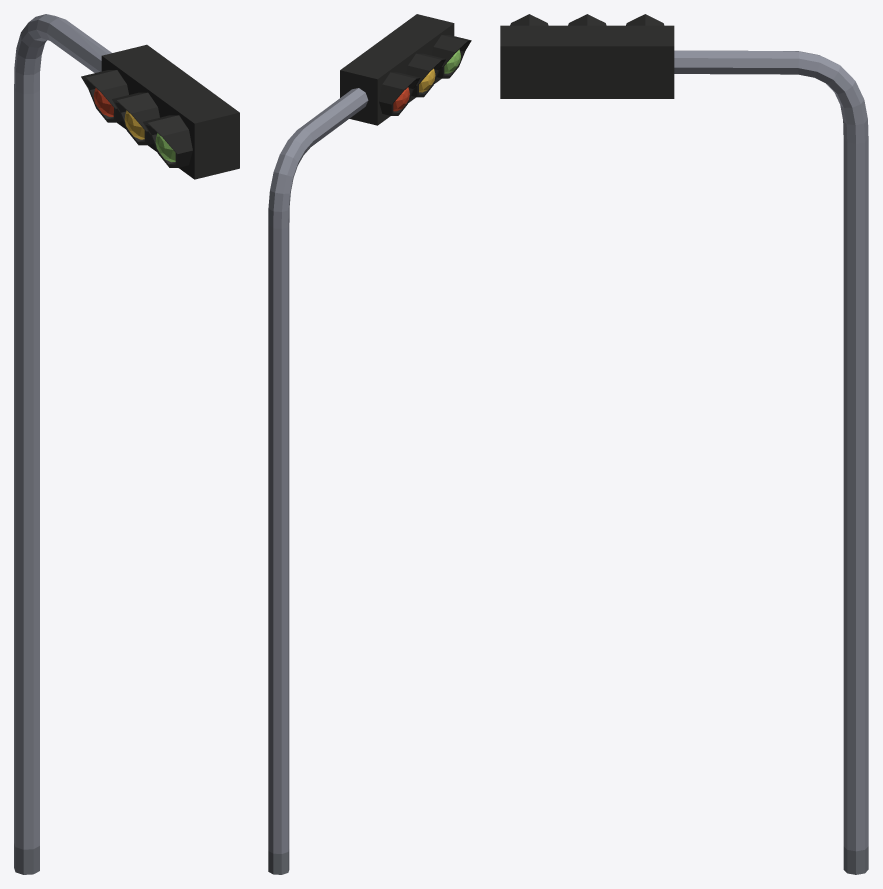
Rendered from trafficOverhang.fbx.
3 renders of one model, left to right at view 1: azimuth 30°, elevation 25°; view 2: azimuth 150°, elevation 25°; view 3: azimuth 270°, elevation 25°, orthographic. The views are drawn at different scales.
Visible parts, largest first — view 1: trafficOverhang; view 2: trafficOverhang; view 3: trafficOverhang.
Boxes of the visible parts, x1,y1,x2,y2 form: trafficOverhang: (14, 14, 239, 874); trafficOverhang: (268, 14, 471, 874); trafficOverhang: (500, 14, 868, 874).
Bounding box in the file's own units: 55.87 × 620 × 248.
4 materials, 1 textured.
